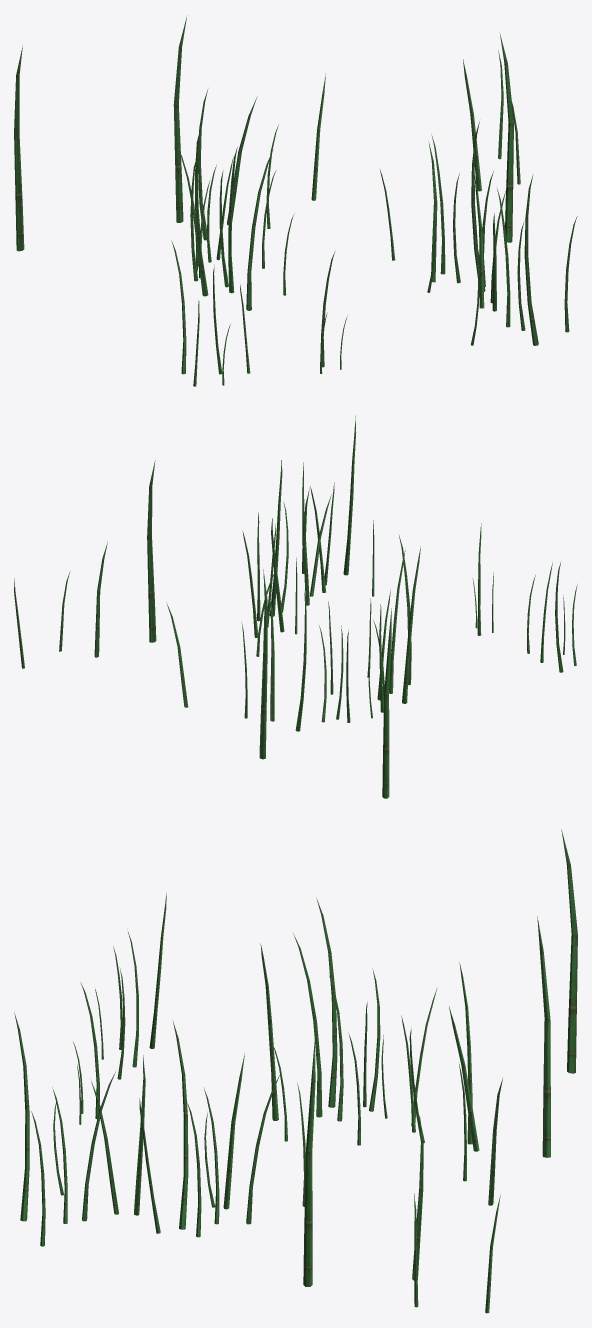
Rendered from Area_07_17.fbx.
The picture shows the model from 3 angles, top to bottom: view 1: azimuth 30°, elevation 25°; view 2: azimuth 150°, elevation 25°; view 3: azimuth 270°, elevation 25°; orthographic projection. The views are drawn at different scales.
Parts seen in each view (by area): view 1: Area_07_17; view 2: Area_07_17; view 3: Area_07_17.
Boxes of the visible parts, bbox=[...] form: Area_07_17: bbox=[14, 15, 577, 386]; Area_07_17: bbox=[14, 415, 577, 798]; Area_07_17: bbox=[14, 829, 577, 1313].
Size of the model in its own units: 6156 by 2611 by 5466.
